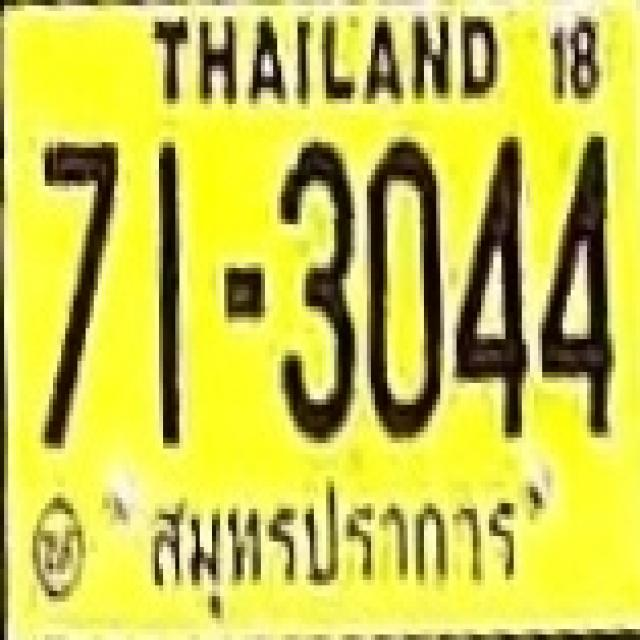0: (367, 139, 440, 435)
1: (155, 140, 179, 396)
3: (277, 136, 355, 438)
4: (452, 134, 526, 435), (538, 131, 612, 432)
7: (41, 137, 118, 350), (41, 136, 118, 322)
SPK: (135, 477, 523, 622)
